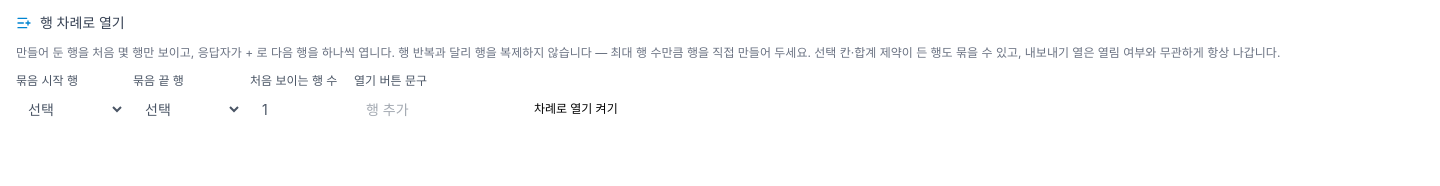
Test: 행 차례로 열기 설정 카드 › 처음 보이는 행 수가 묶음 행 수 이상이면 위반을 알리고 켜지 못하게 한다
This screenshot has width=1440, height=186.
Select "2행 · 국가 1" in the dropdown labelled "묶음 시작 행" at point(70, 109), box x1=16 y1=93 x2=125 y2=125
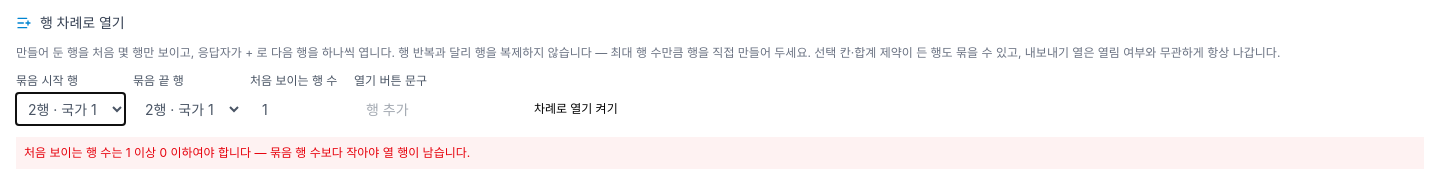
Select "3행 · 국가 2" in the dropdown labelled "묶음 끝 행" at point(188, 109), box x1=133 y1=93 x2=242 y2=125
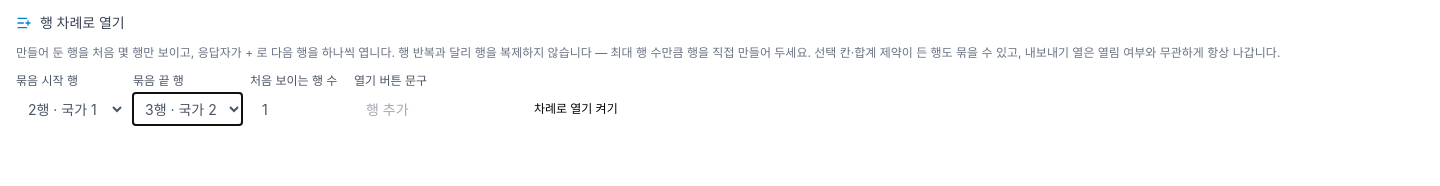
Replace the text in the number field labelled "처음 보이는 행 수" with "2" at point(298, 109), box x1=250 y1=93 x2=346 y2=125
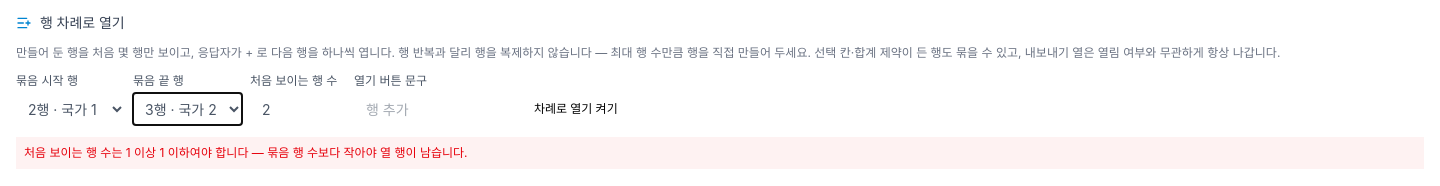
expect the button "차례로 열기 켜기" is disabled: met, box x1=522 y1=93 x2=630 y2=125
expect the list item "처음 보이는 행 수는 1 이상 1 이하여야 합니다 — 묶음 행 수보다 작아야 열 행이 남습니다." is shown: met, box x1=24 y1=145 x2=468 y2=160
